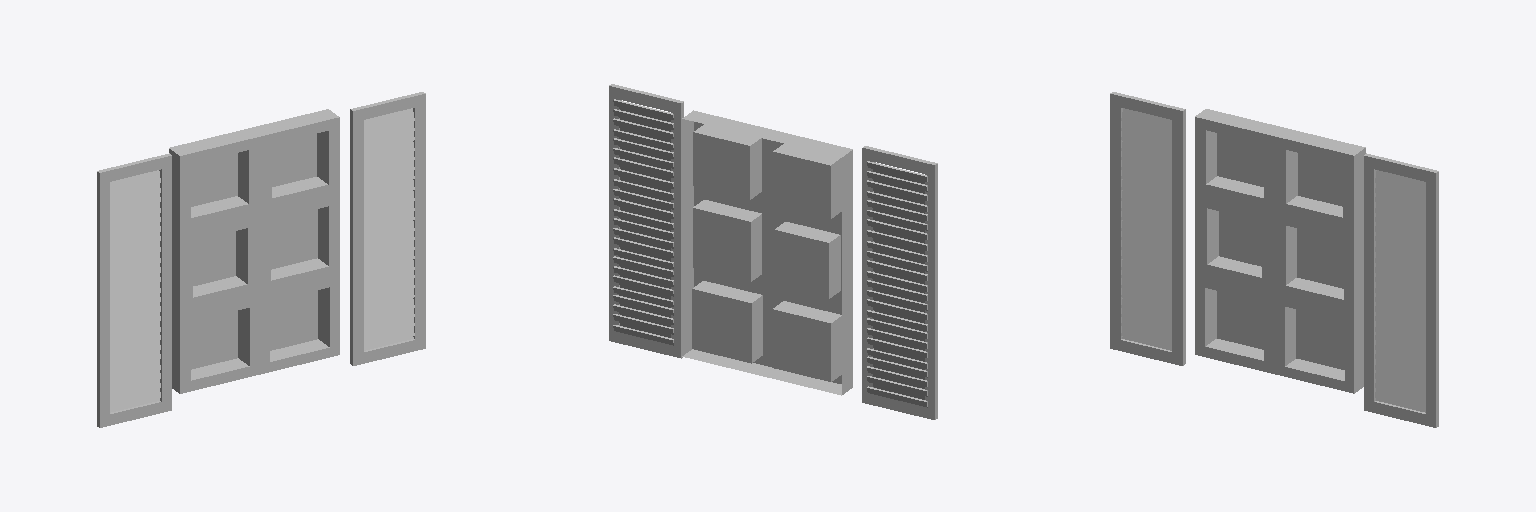
Rendered from window1.obj.
3 renders of one model, left to right at view 1: azimuth 30°, elevation 25°; view 2: azimuth 150°, elevation 25°; view 3: azimuth 330°, elevation 25°, orthographic.
Parts seen in each view (by area): view 1: pCube29; view 2: pCube29; view 3: pCube29.
Part boxes in pixels (x1,y1,x2,y2): pCube29: (97, 92, 425, 427); pCube29: (609, 84, 937, 419); pCube29: (1110, 92, 1438, 427).
Size of the model in its own units: 0.6619 by 0.4947 by 0.0472.